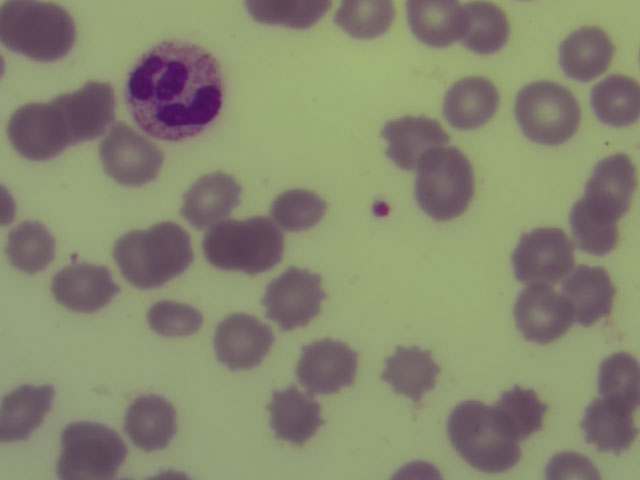Platelets: (375, 200, 391, 219)
RBC: (445, 399, 519, 468), (511, 81, 581, 146), (412, 145, 479, 212), (262, 266, 324, 326), (375, 342, 437, 402), (382, 115, 444, 175), (512, 225, 574, 285), (560, 265, 622, 325), (511, 285, 573, 345), (442, 76, 504, 136), (59, 423, 124, 480), (98, 123, 158, 182), (212, 310, 272, 367), (584, 397, 640, 456), (8, 100, 64, 157), (299, 335, 354, 393), (265, 384, 322, 439), (50, 262, 113, 310), (28, 4, 81, 60), (124, 395, 177, 450), (585, 152, 640, 203), (148, 219, 198, 275), (238, 1, 329, 30), (116, 226, 163, 281), (337, 1, 398, 43), (458, 4, 509, 53), (560, 27, 611, 76), (589, 351, 640, 400), (1, 384, 48, 437), (409, 1, 463, 47), (591, 76, 640, 126), (498, 386, 550, 433), (184, 178, 236, 224), (204, 223, 256, 269), (276, 186, 328, 232), (148, 297, 200, 343), (53, 93, 105, 139), (3, 222, 55, 268), (570, 204, 616, 253), (243, 215, 285, 263), (544, 448, 602, 480), (1, 1, 39, 48), (77, 81, 120, 120), (382, 458, 445, 480), (1, 185, 18, 220)
WBC: (128, 44, 223, 139)
